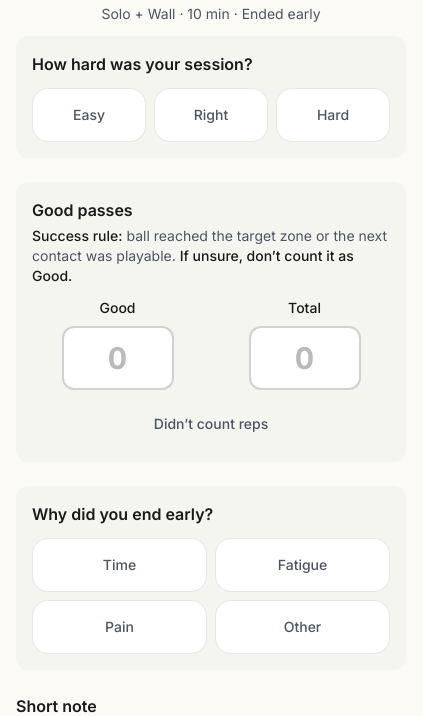
Test: ReviewScreen per-drill aggregate (D133) › explains that Done is disabled until an ended-early reason is selected
This screenshot has width=423, height=716.
Step 1. Click the radio button labelled "Right" → (211,115), box [154,88,268,142]
(page scrolled)
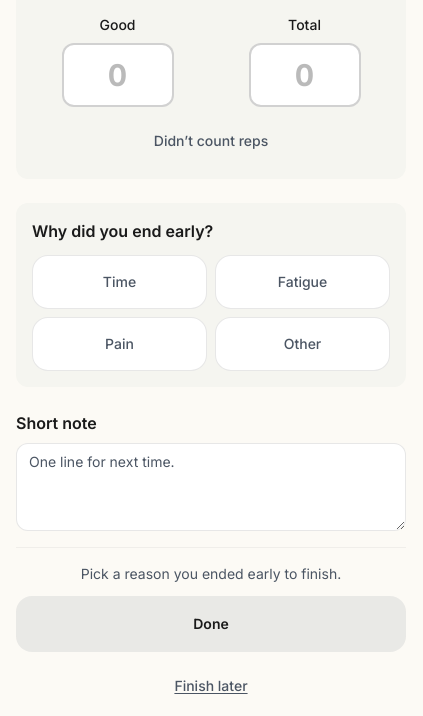
Expected: the button "Done" is disabled, [16,596,406,652]
Now the text "Pick a reason you ended early to finish." is shown, box [81,565,341,582]
